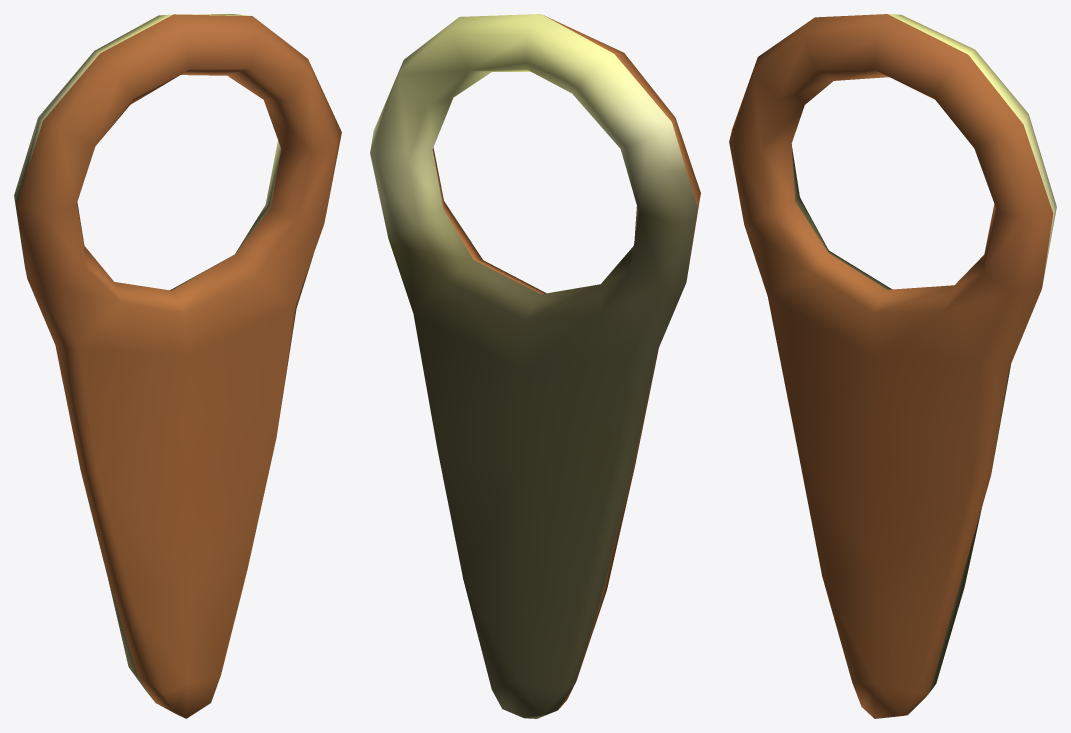
3 views of the same model, side by side, from view 1: azimuth 30°, elevation 25°; view 2: azimuth 150°, elevation 25°; view 3: azimuth 330°, elevation 25° (orthographic).
Parts seen in each view (by area): view 1: SM_CrossbowBolt_Bronze_01_LOD0; view 2: SM_CrossbowBolt_Bronze_01_LOD0; view 3: SM_CrossbowBolt_Bronze_01_LOD0.
Part boxes in pixels (x1,y1,x2,y2): SM_CrossbowBolt_Bronze_01_LOD0: (14, 14, 341, 718); SM_CrossbowBolt_Bronze_01_LOD0: (370, 14, 700, 718); SM_CrossbowBolt_Bronze_01_LOD0: (729, 14, 1056, 718).
Size of the model in its own units: 0.0634 by 0.1311 by 0.011.
